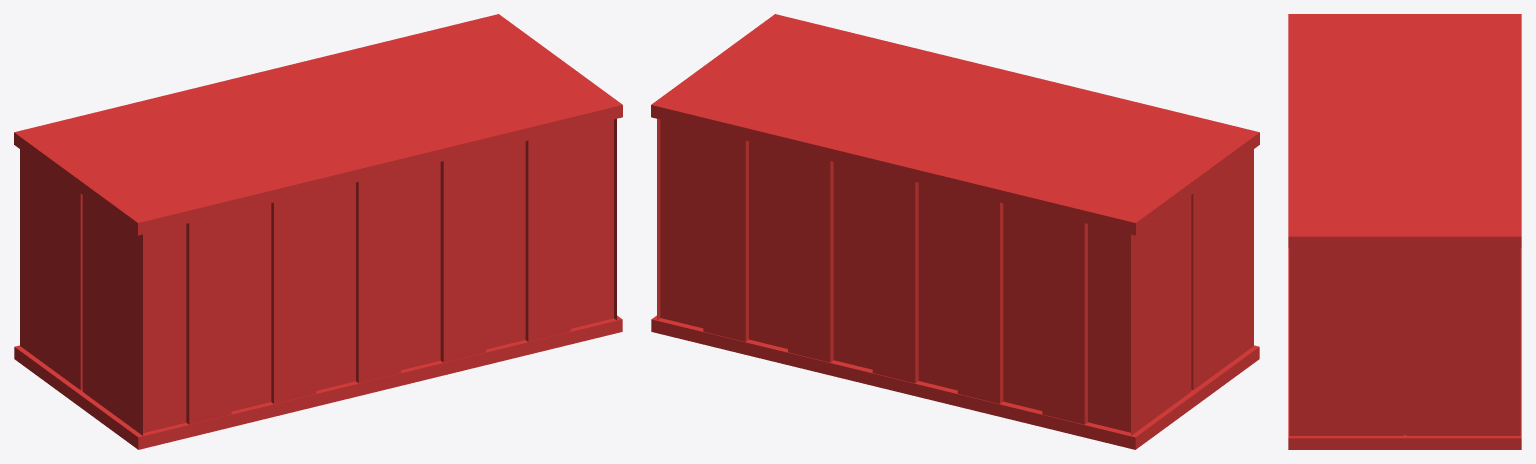
Rendered from RED CONTAINER.fbx.
3 renders of one model, left to right at view 1: azimuth 30°, elevation 25°; view 2: azimuth 150°, elevation 25°; view 3: azimuth 270°, elevation 25°, orthographic. The views are drawn at different scales.
Visible parts, largest first — view 1: Cube.095; view 2: Cube.095; view 3: Cube.095.
Part boxes in pixels (left/top/right/bottom): Cube.095: left=14, top=14, right=622, bottom=449; Cube.095: left=651, top=14, right=1259, bottom=449; Cube.095: left=1288, top=14, right=1521, bottom=449.
Size of the model in its own units: 1127 by 504 by 500.
